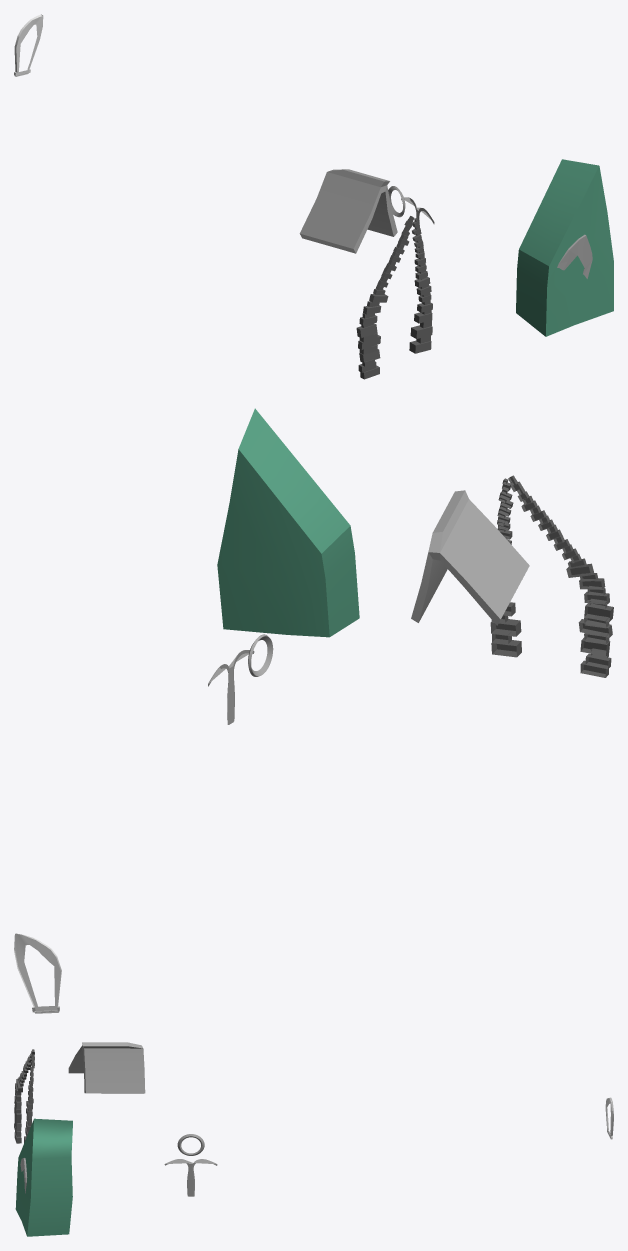
File: SOTONE FREESE TRAL.fbx
3 renders of one model, top to bottom at view 1: azimuth 30°, elevation 25°; view 2: azimuth 150°, elevation 25°; view 3: azimuth 270°, elevation 25°, orthographic. The views are drawn at different scales.
Visible parts, largest first — view 1: pCube3, pCube18, pCube75, pCube1, pCube2; view 2: pCube3, pCube18, pCube75, pCube2; view 3: pCube3, pCube18, pCube75, curve5.
Boxes of the visible parts, box(x1,y1,x2,y2) form: pCube3: box(516, 159, 613, 336); pCube18: box(299, 169, 397, 253); pCube75: box(356, 216, 432, 379); pCube1: box(557, 234, 592, 278); pCube2: box(14, 14, 43, 76); pCube3: box(217, 408, 359, 637); pCube18: box(411, 490, 529, 625); pCube75: box(490, 475, 613, 677); pCube2: box(14, 933, 61, 1013); pCube3: box(15, 1118, 72, 1236); pCube18: box(68, 1042, 145, 1093); pCube75: box(14, 1049, 34, 1143); curve5: box(164, 1159, 217, 1196).
Bounding box in the file's own units: 9.62 × 5.35 × 23.99.
